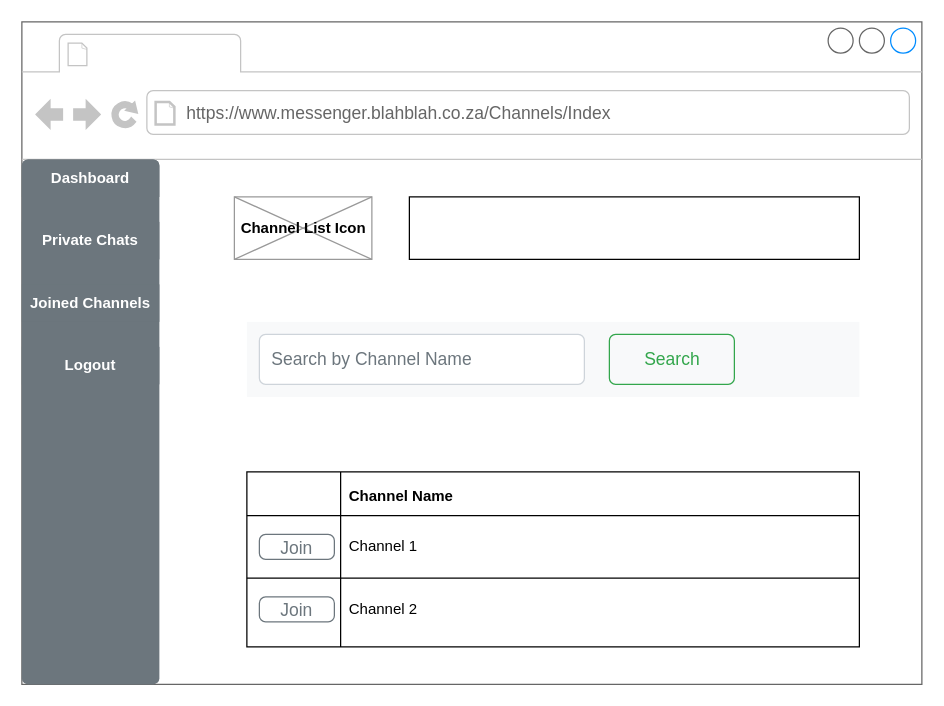
This 944x706 diagram has some shape labels left out. The shapes that lost their labels are listed below. From the top down, each one's centre as x and y in pixels, then its label:
pixel 165 52: Channels
pixel 633 227: Channel List Title
